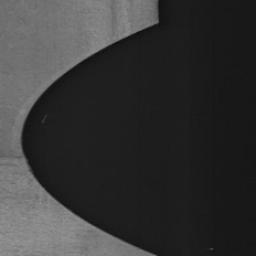Crescent gap: (21, 24, 156, 255)
